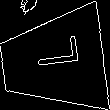L_W: (26, 42, 80, 80)
